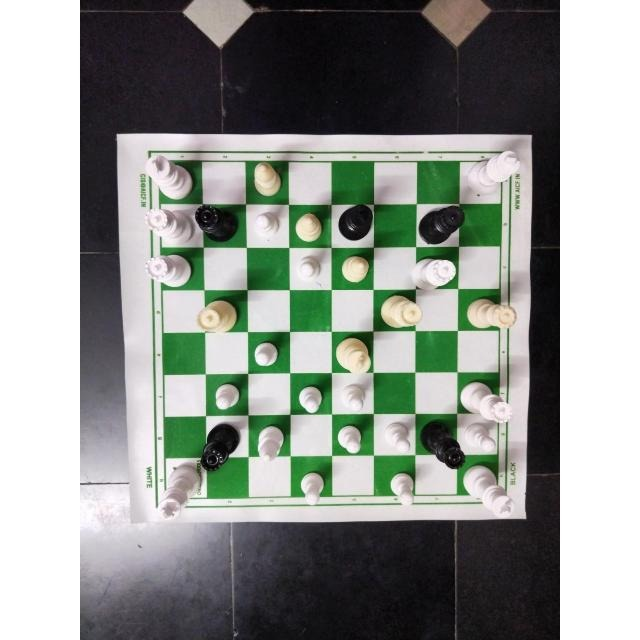black-king: (419, 420, 467, 470), (334, 200, 376, 239)
black-queen: (415, 200, 464, 245), (197, 421, 241, 471), (197, 204, 237, 241)
white-bishop: (247, 159, 285, 200), (252, 426, 287, 466), (339, 250, 371, 286), (293, 210, 324, 242)
white-king: (148, 462, 203, 521), (462, 149, 522, 201), (461, 465, 514, 521), (142, 150, 196, 198), (330, 332, 375, 376)
white-pawn: (294, 467, 329, 507), (462, 419, 502, 454), (386, 466, 417, 509), (209, 376, 243, 415), (249, 208, 286, 242), (378, 421, 415, 455), (292, 380, 328, 414), (335, 380, 373, 412), (333, 422, 369, 454), (293, 251, 327, 284), (250, 335, 284, 367)
white-queen: (456, 376, 514, 424), (140, 204, 196, 243), (374, 294, 428, 333), (143, 252, 195, 291), (465, 297, 521, 331), (412, 253, 458, 293), (196, 300, 240, 338)
